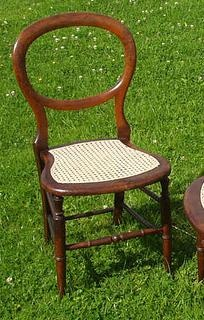obstacle: (13, 13, 170, 295)
